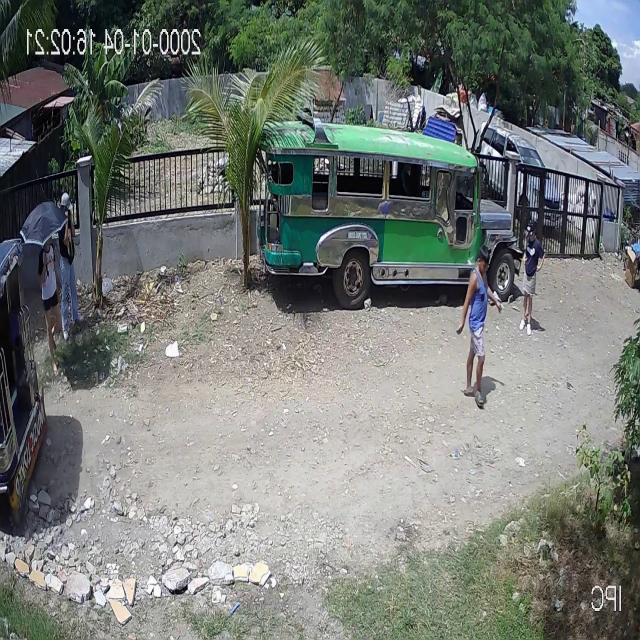standing: (59, 190, 82, 344), (517, 221, 544, 339)
walking: (457, 245, 493, 412), (37, 231, 58, 379)
